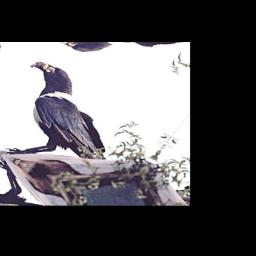Crow: (0, 57, 152, 189)
